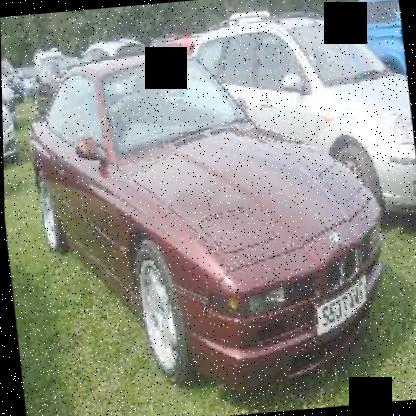not_emergency: (7, 26, 406, 412)
